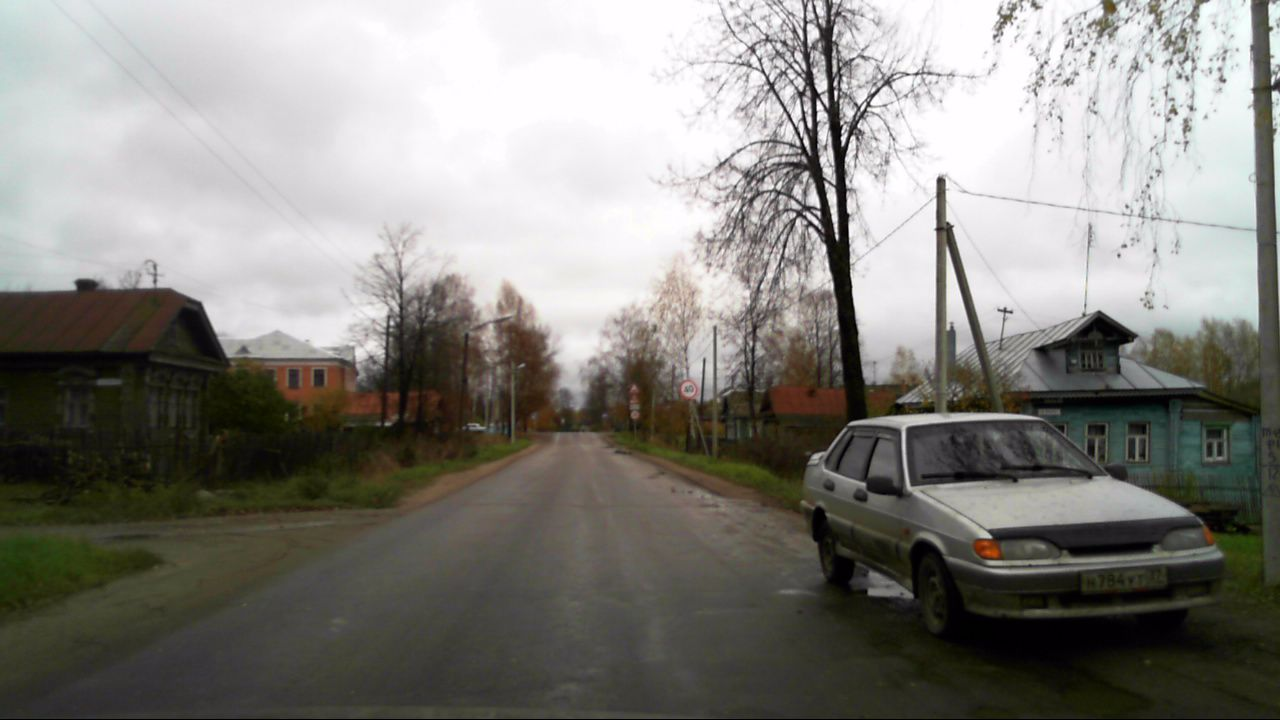speed_warning_40: (678, 379, 699, 399)
